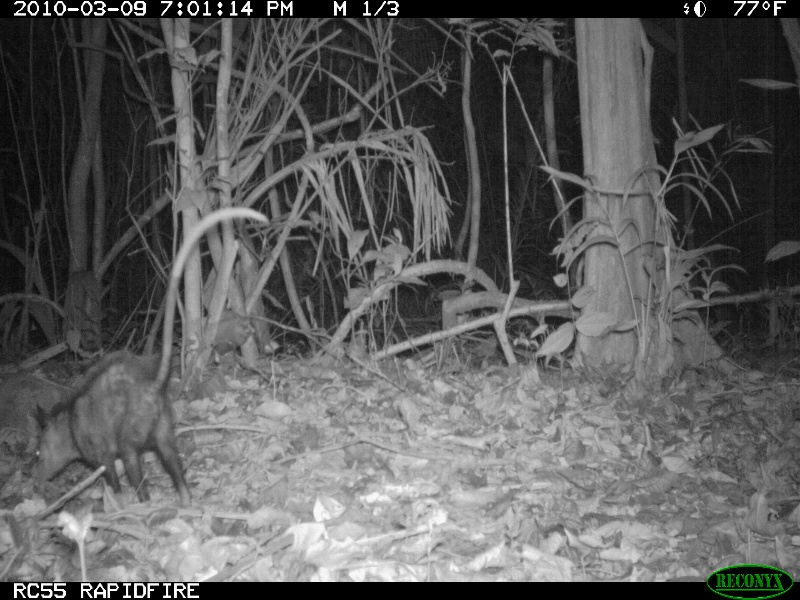opossum: (29, 200, 270, 504)
